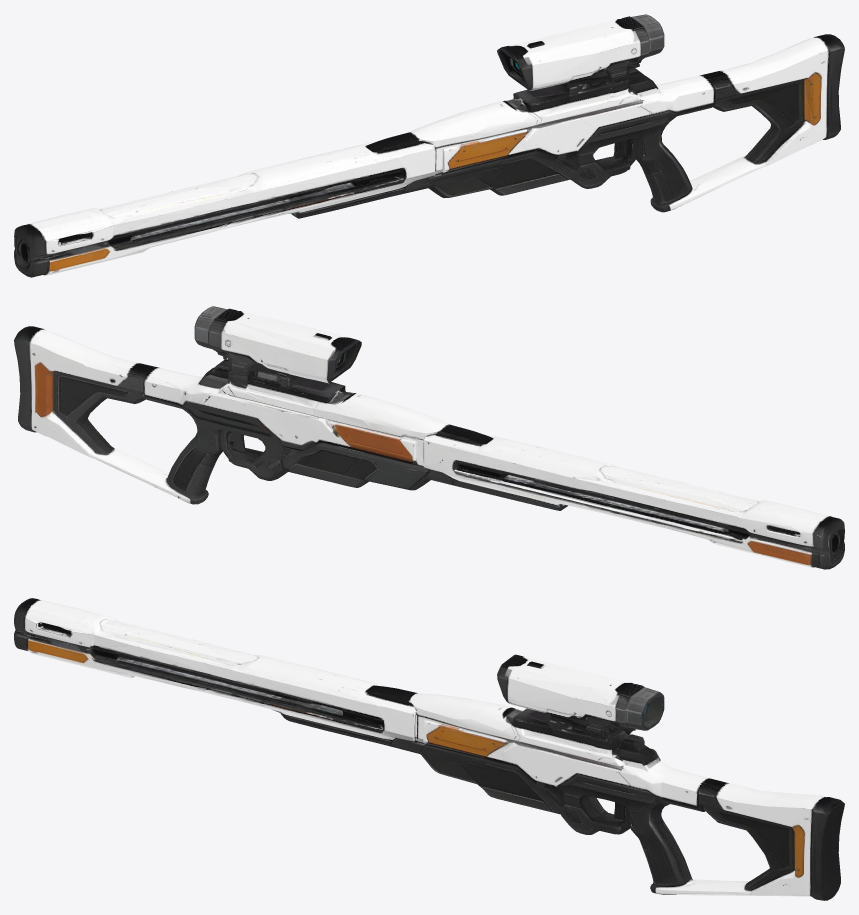
File: sniper.glb
3 views of the same model, one above another, from view 1: azimuth 30°, elevation 25°; view 2: azimuth 150°, elevation 25°; view 3: azimuth 330°, elevation 25° (orthographic).
Size of the model in its own units: 1.9 by 0.4392 by 0.1046.
Materials: 1 (1 with a texture image).
